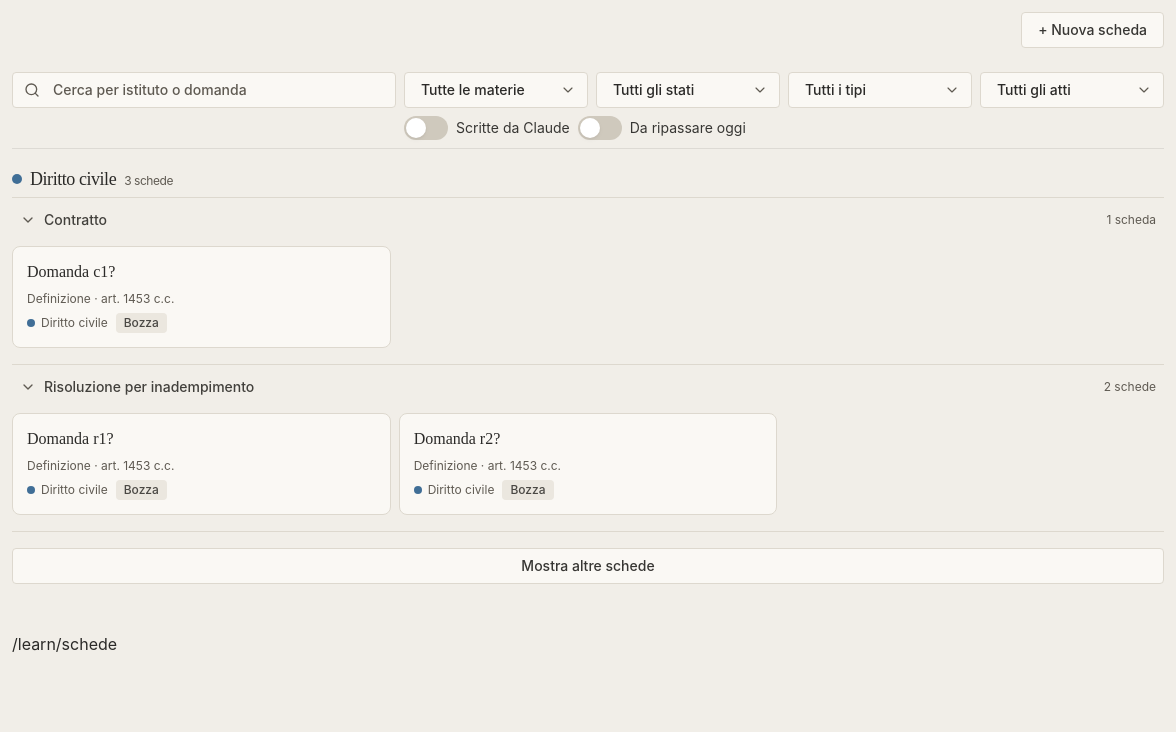
«Le mie schede», the list › reads the next page on request
What coordinates should you click on to do the following:
click the button "Mostra altre schede"
I would click on:
 (588, 566)
Its box is [12,548,1164,584].
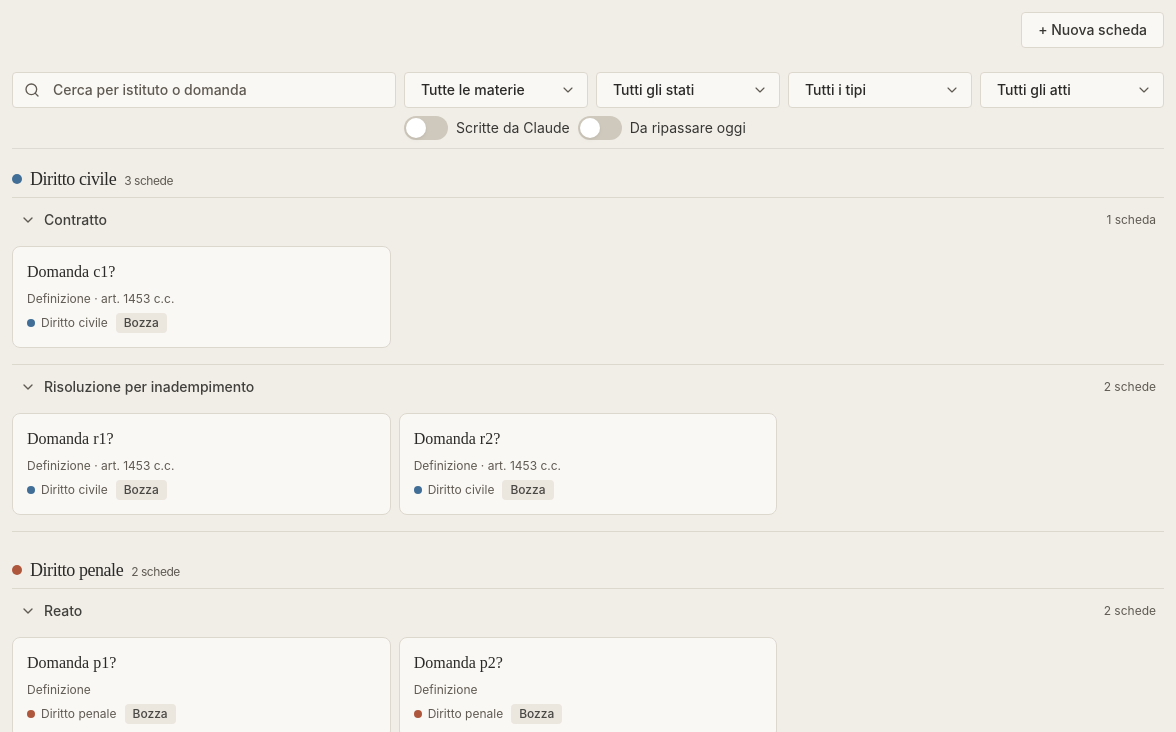
Expected: the button "Mostra altre schede" is gone
